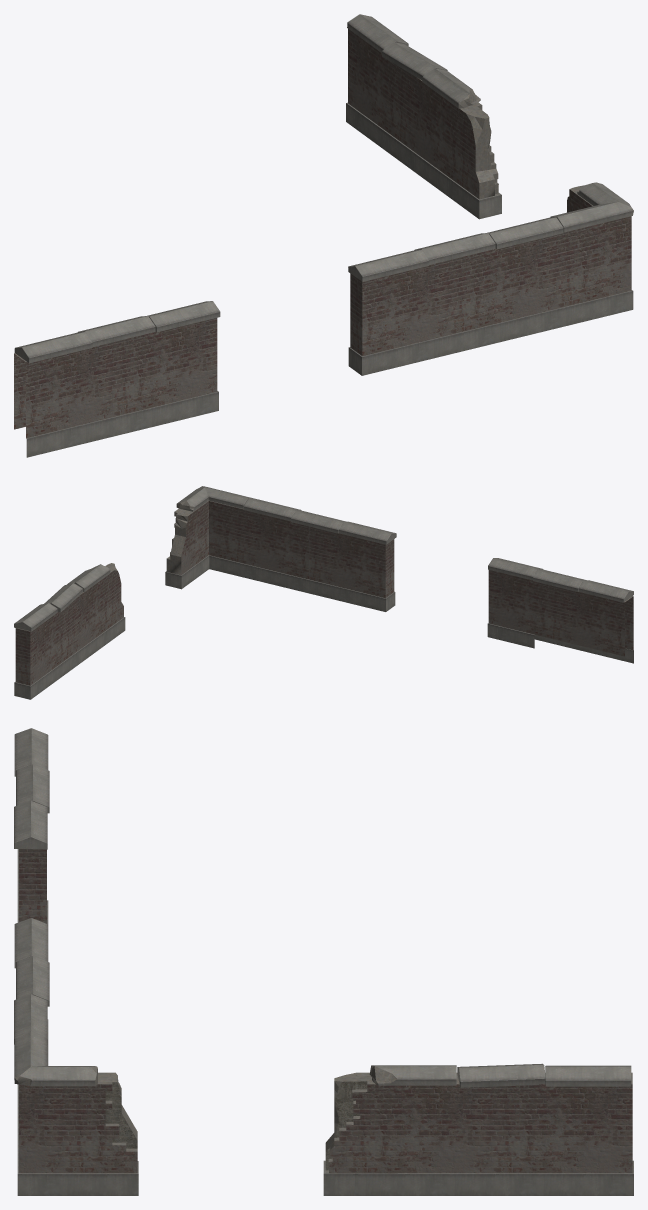
File: Cemetery_STR_InnerWall_01.fbx
The picture shows the model from 3 angles, top to bottom: view 1: azimuth 30°, elevation 25°; view 2: azimuth 150°, elevation 25°; view 3: azimuth 270°, elevation 25°; orthographic projection. The views are drawn at different scales.
Visible parts, largest first — view 1: Cemetery_STR_InnerWall_01; view 2: Cemetery_STR_InnerWall_01; view 3: Cemetery_STR_InnerWall_01.
Boxes of the visible parts, x1,y1,x2,y2 form: Cemetery_STR_InnerWall_01: (14, 14, 633, 457); Cemetery_STR_InnerWall_01: (14, 486, 633, 699); Cemetery_STR_InnerWall_01: (14, 728, 633, 1195).
Bounding box in the file's own units: 1180 × 196 × 889.
1 material, 1 textured.
